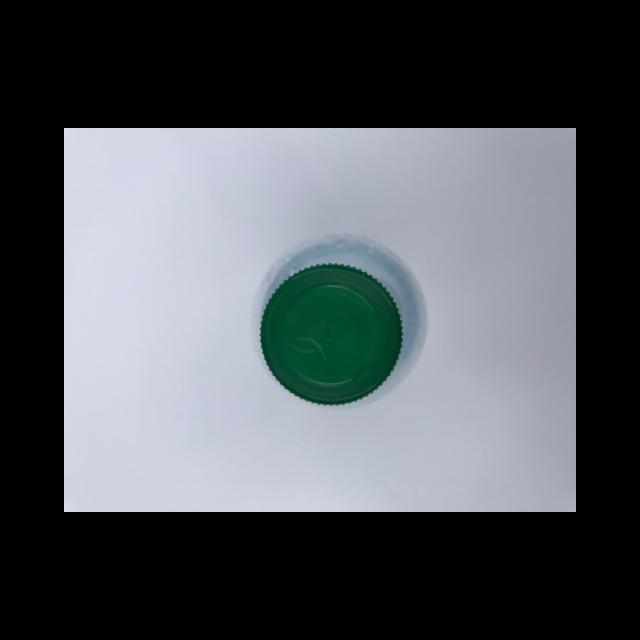plastic: (257, 234, 427, 404), (258, 262, 404, 405)
